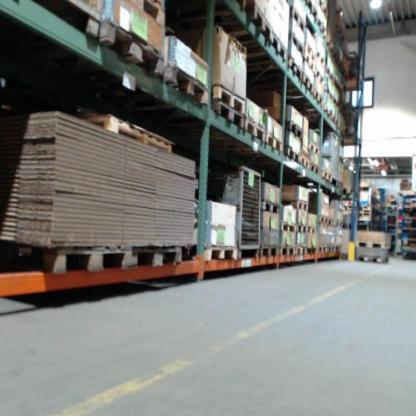pallets: (54, 0, 214, 109), (208, 90, 348, 189), (11, 240, 346, 277), (225, 2, 338, 108), (356, 238, 388, 266)
